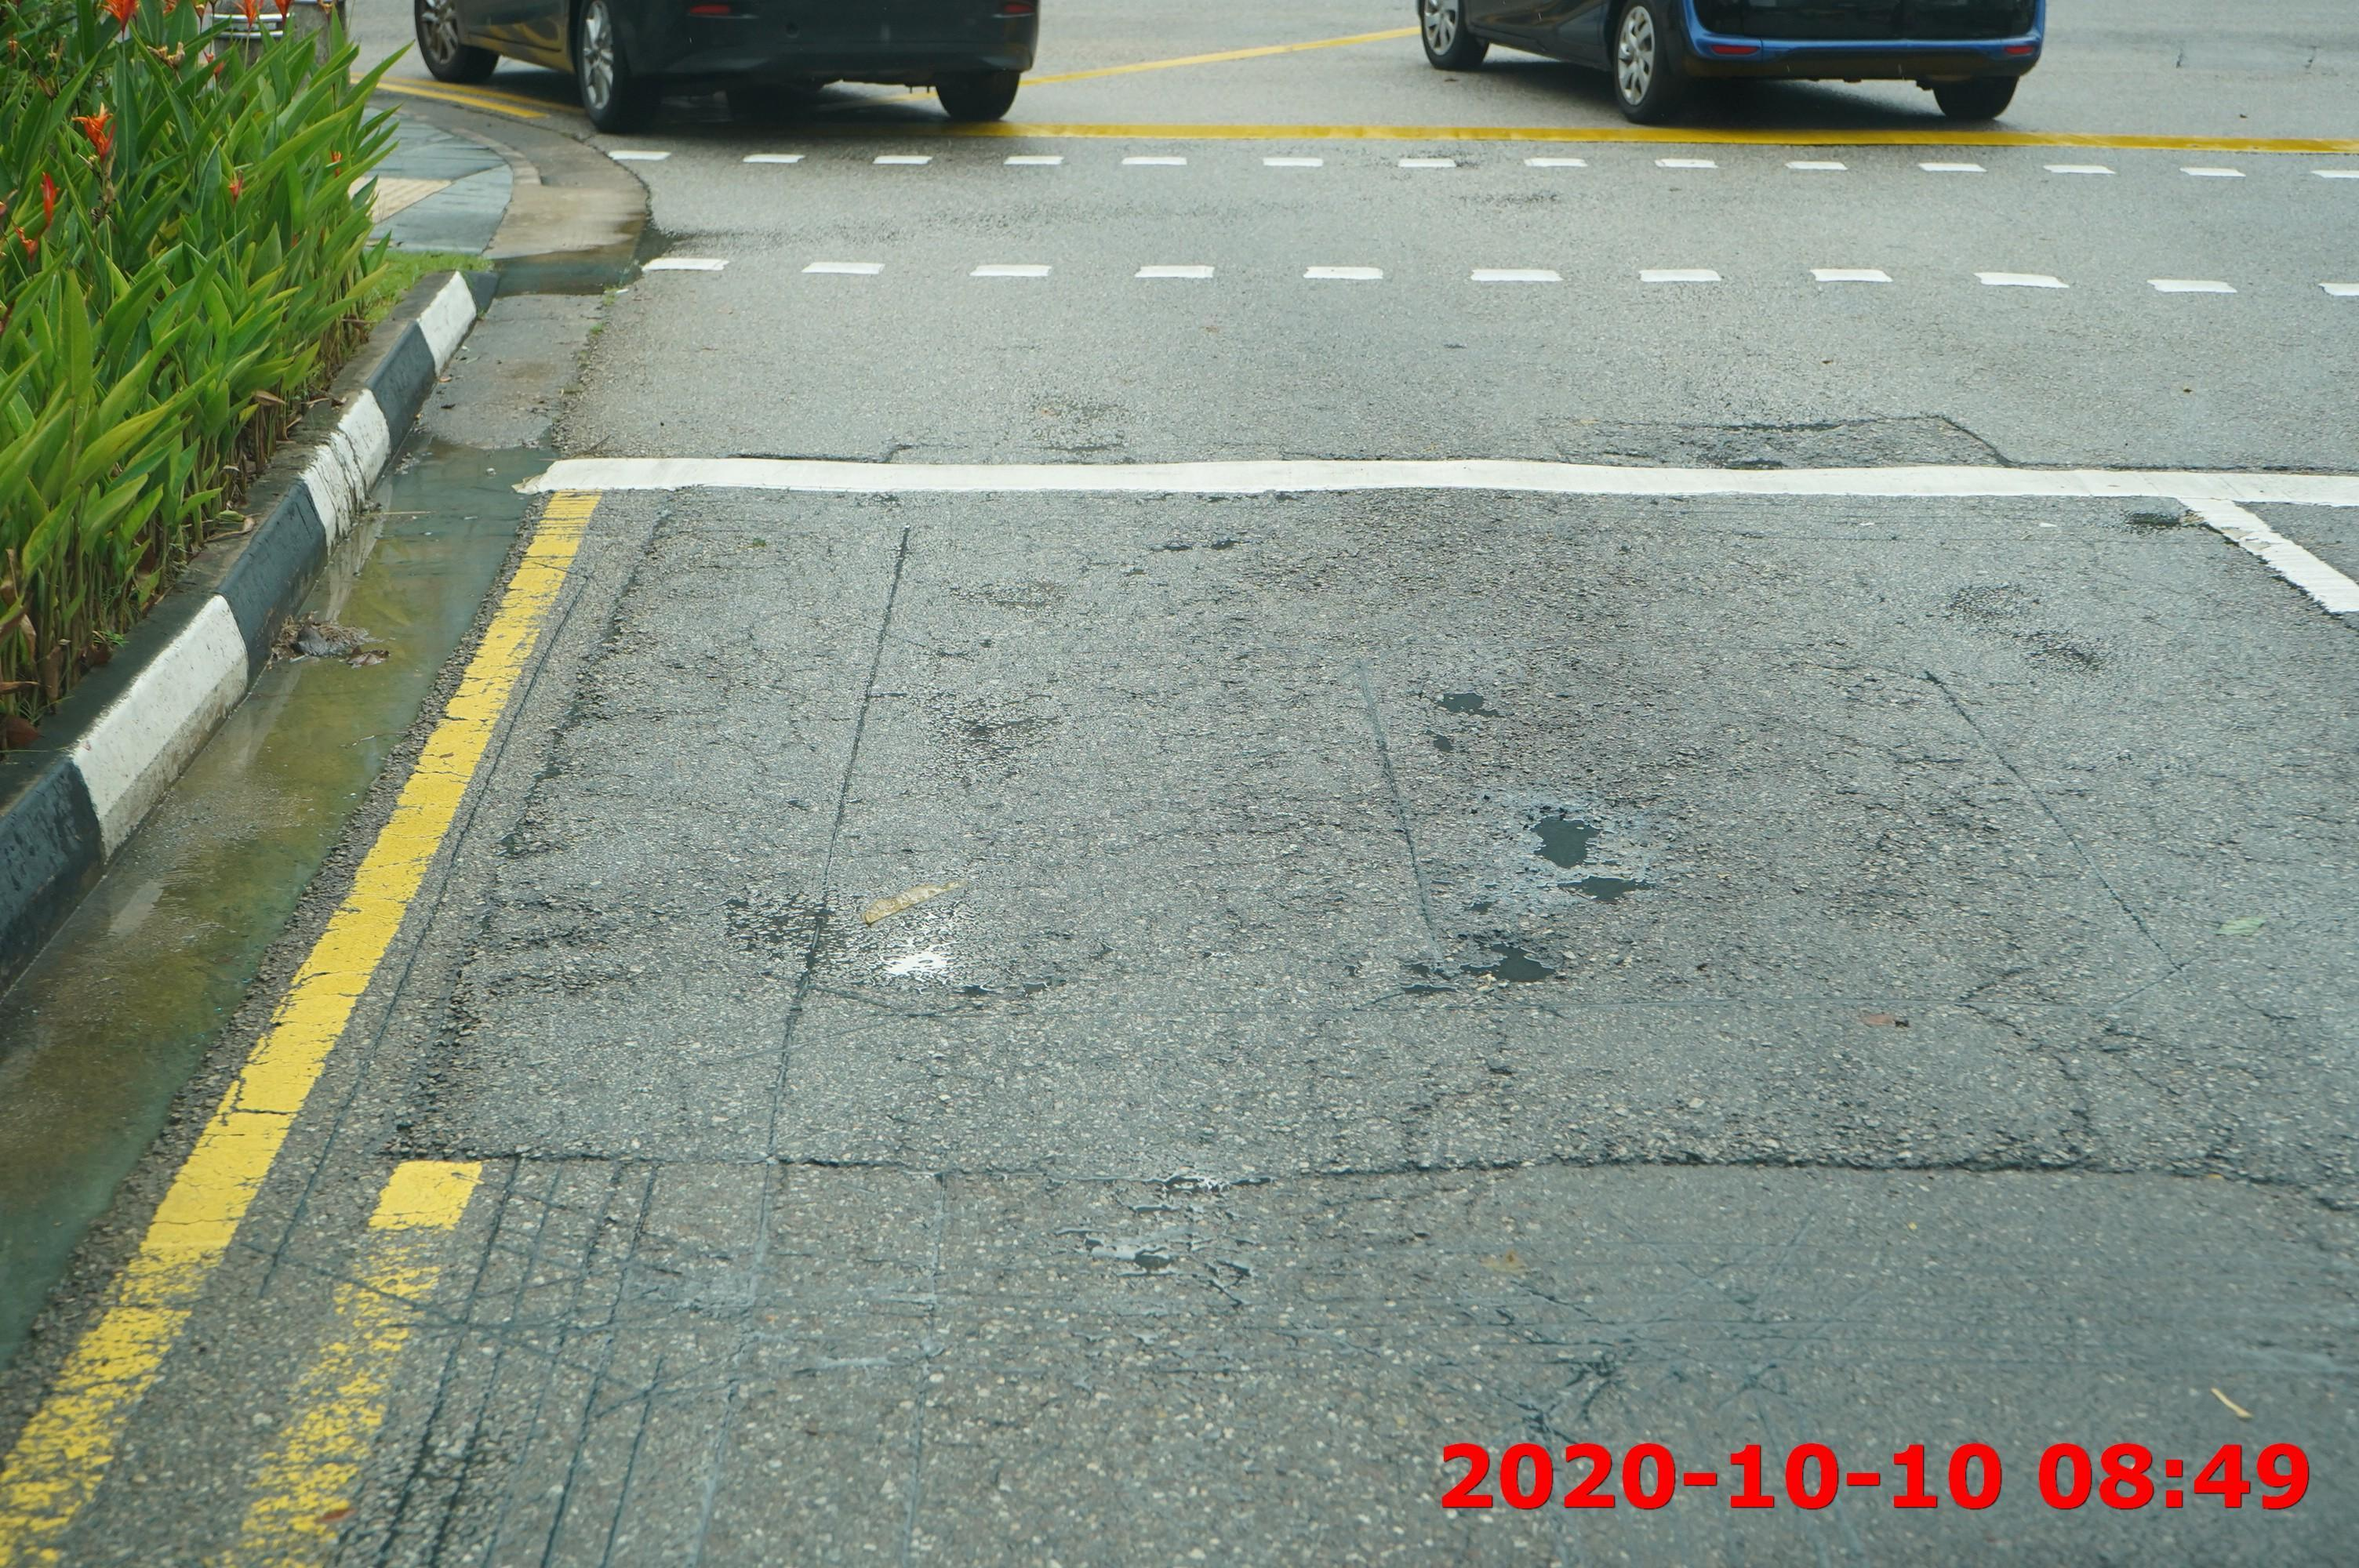peel off with cracks: (1391, 668, 1676, 999)
